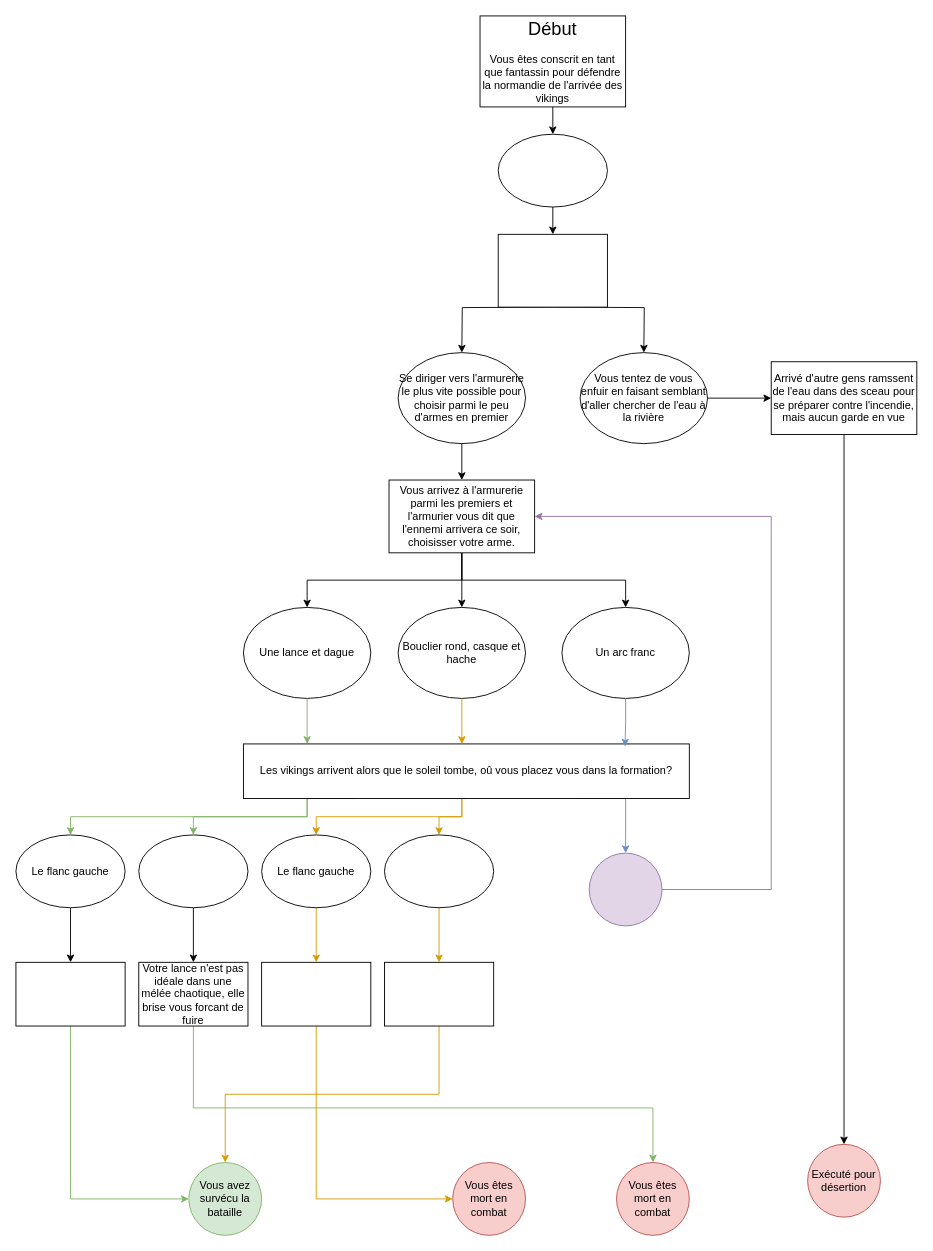
The diagram is 933 pixels wide and 1251 high, and some of its shapes have lost their labels. The centre of each missing label's shape, as x and y in pixels:
"La cavalrie adverse vous acharne et votre hache n'a pas la portée pour riposter" goes at point (316, 993).
"Le bataillon centrale" goes at point (193, 871).
"Le battaillon centrale" goes at point (439, 871).
"Se diriger vers la place publique" goes at point (552, 170).
"Votre bouclier et hache font bien pour la mélée chaotique" goes at point (439, 993).
"Votre lance est l'équipement parfait pour repousser la cavalrie ennemi" goes at point (70, 993).
"vous échouez l'examen" goes at point (625, 889).
"Vous écoutez le discour du général, pensant à comment survivre cette battaille" goes at point (552, 270).
